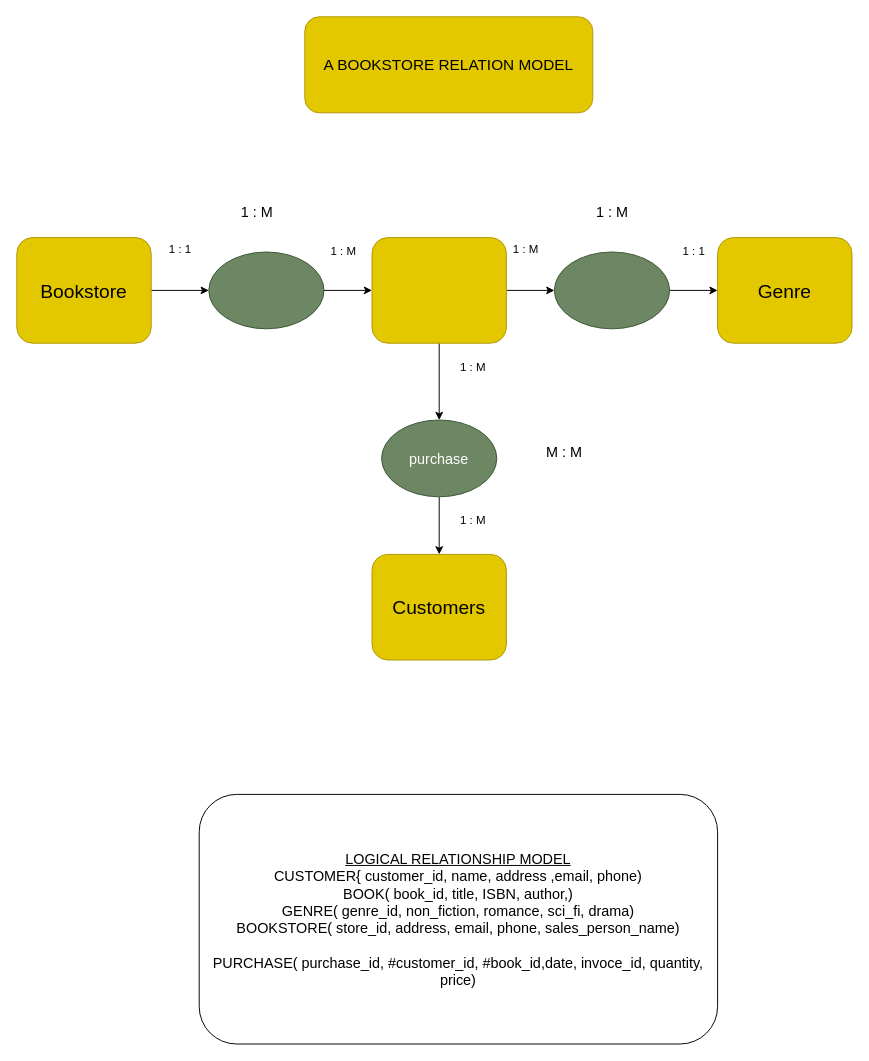
Some shapes in this 869 by 1061 pixel diagram are drawn without their labels. The box of each missing label's shape, as (x1, y1, x2, y2) in pixels:
Book: (371, 237, 506, 343)
category: (553, 251, 670, 329)
sells: (208, 251, 324, 329)
